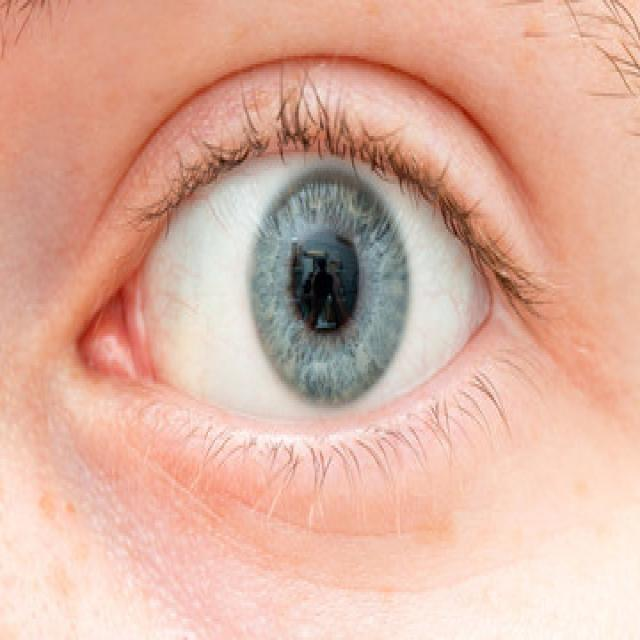Normal: (0, 0, 638, 574)
